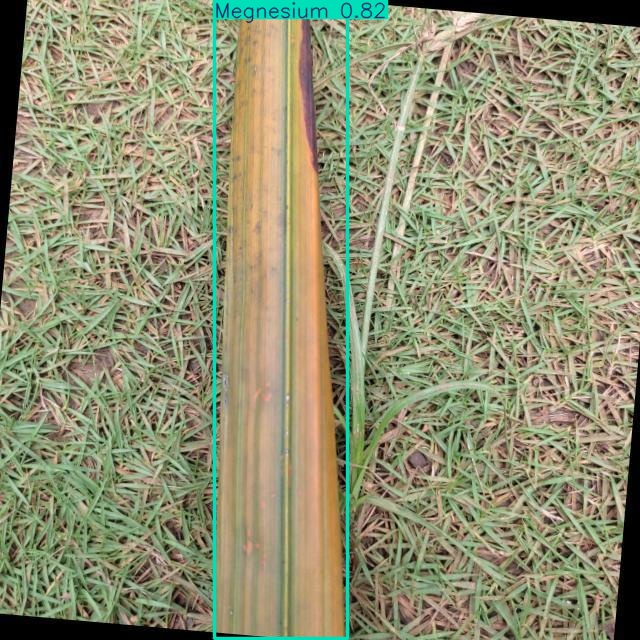Megnesium: (215, 0, 347, 639)
